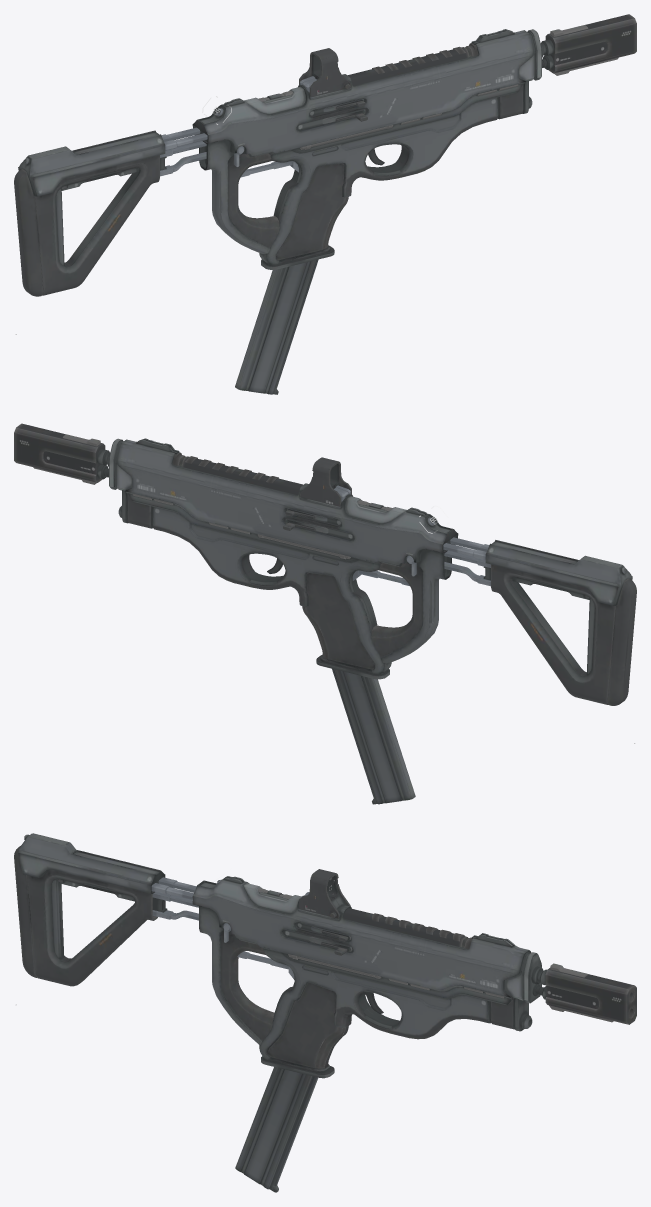
File: smg_1.glb
3 renders of one model, top to bottom at view 1: azimuth 30°, elevation 25°; view 2: azimuth 150°, elevation 25°; view 3: azimuth 330°, elevation 25°, orthographic.
Visible parts, largest first — view 1: Plane.010, Plane.011, Cube.053, Cube.049, Plane.016, Slice.003, Cube.047, Cube.043, Plane.017, Plane.013, Slice.002, Cube.062 (+4 smaller); view 2: Plane.010, Plane.011, Cube.053, Cube.049, Plane.016, Slice.003, Cube.047, Cube.043, Plane.017, Plane.013, Slice.002, Cube.062 (+4 smaller); view 3: Plane.010, Plane.011, Cube.053, Cube.049, Plane.016, Slice.003, Cube.047, Plane.017, Plane.013, Cube.043, Slice.002, Cube.062 (+4 smaller).
Boxes of the visible parts, <box> form: Plane.010: <box>192,30,533,157</box>; Plane.011: <box>259,80,528,269</box>; Cube.053: <box>14,155,159,296</box>; Cube.049: <box>235,259,318,394</box>; Plane.016: <box>18,130,165,196</box>; Slice.003: <box>276,163,348,260</box>; Cube.047: <box>545,14,636,73</box>; Cube.043: <box>199,140,270,254</box>; Plane.017: <box>228,153,279,248</box>; Plane.013: <box>348,43,478,85</box>; Slice.002: <box>291,84,522,153</box>; Cube.062: <box>299,48,350,97</box>; Plane.010: <box>117,439,458,566</box>; Plane.011: <box>122,490,391,679</box>; Cube.053: <box>491,564,636,705</box>; Cube.049: <box>332,669,415,804</box>; Plane.016: <box>485,540,632,605</box>; Slice.003: <box>302,573,374,669</box>; Cube.047: <box>14,423,105,482</box>; Cube.043: <box>380,549,451,663</box>; Plane.017: <box>371,563,422,657</box>; Plane.013: <box>172,452,302,494</box>; Slice.002: <box>128,493,359,562</box>; Cube.062: <box>300,457,351,506</box>; Plane.010: <box>192,877,531,999</box>; Plane.011: <box>259,948,528,1078</box>; Cube.053: <box>14,846,157,986</box>; Cube.049: <box>235,1067,318,1192</box>; Plane.016: <box>18,833,165,893</box>; Slice.003: <box>268,982,348,1068</box>; Cube.047: <box>545,968,636,1024</box>; Plane.017: <box>221,931,274,1040</box>; Plane.013: <box>343,908,472,948</box>; Cube.043: <box>199,906,262,1044</box>; Slice.002: <box>281,952,511,1005</box>; Cube.062: <box>299,869,350,918</box>.
Size of the model in its own units: 54.44 by 27.88 by 4.
Materials: 2 (1 with a texture image).
